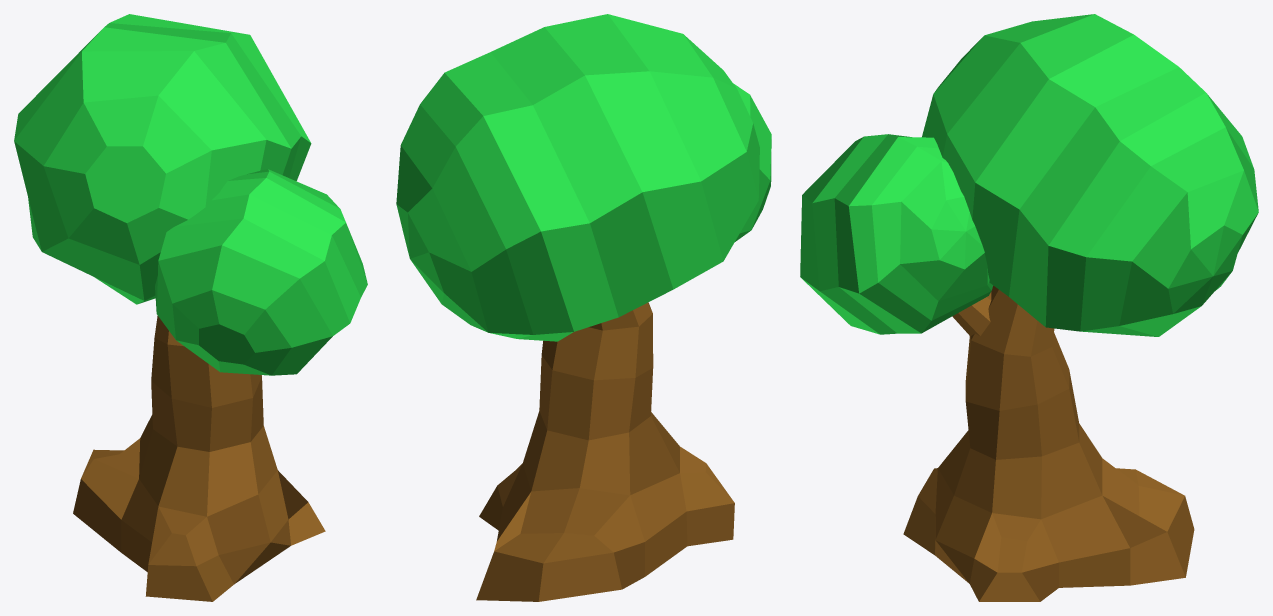
The model's file is Tree3.gltf.
3 views of the same model, side by side, from view 1: azimuth 30°, elevation 25°; view 2: azimuth 150°, elevation 25°; view 3: azimuth 270°, elevation 25° (orthographic). The views are drawn at different scales.
Parts seen in each view (by area): view 1: circle (×3); view 2: circle (×3); view 3: circle (×3), circle_selection.
Boxes of the visible parts, x1,y1,x2,y2 form: circle (×3): [14, 14, 367, 601]; circle (×3): [396, 14, 771, 601]; circle (×3): [800, 14, 1258, 601]; circle_selection: [952, 292, 991, 336].
Bounding box in the file's own units: 2.24 × 3.82 × 3.09.
2 materials, 2 textured.
